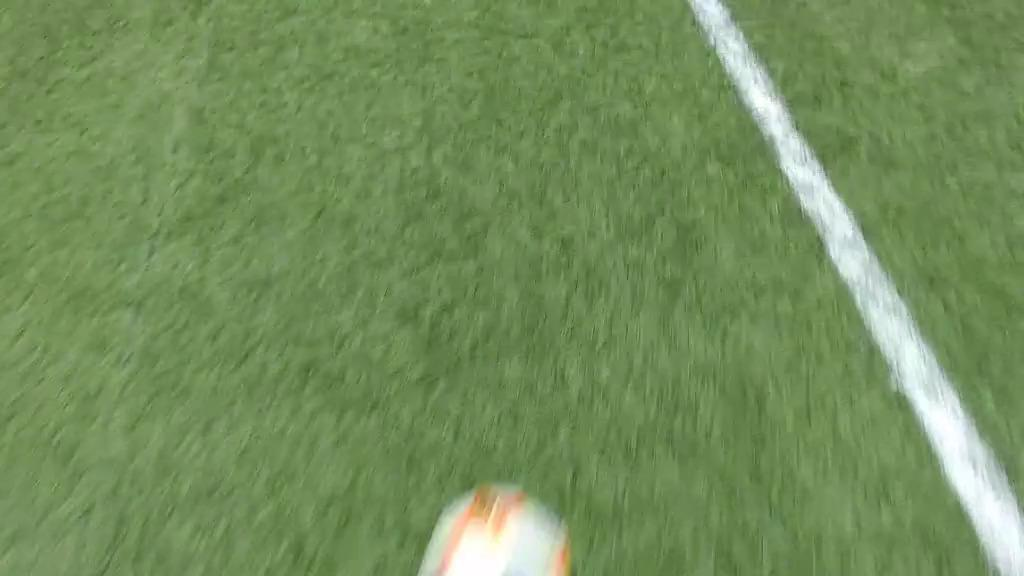ball: (422, 484, 573, 576)
